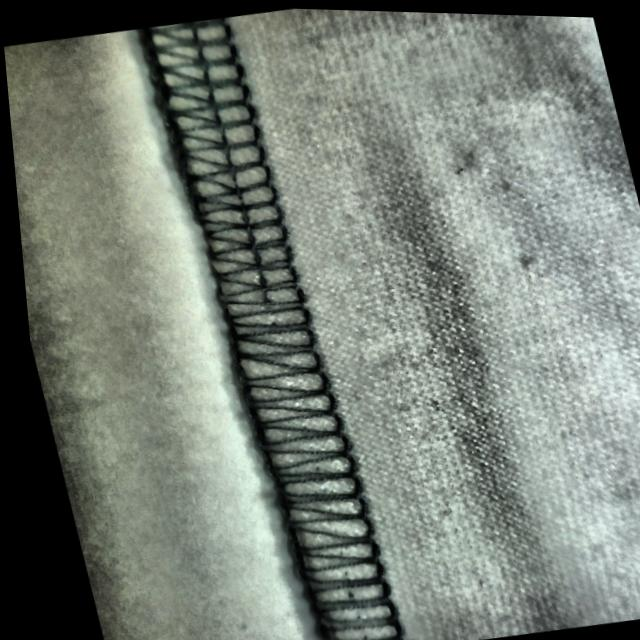Stitch: (156, 79, 351, 483)
